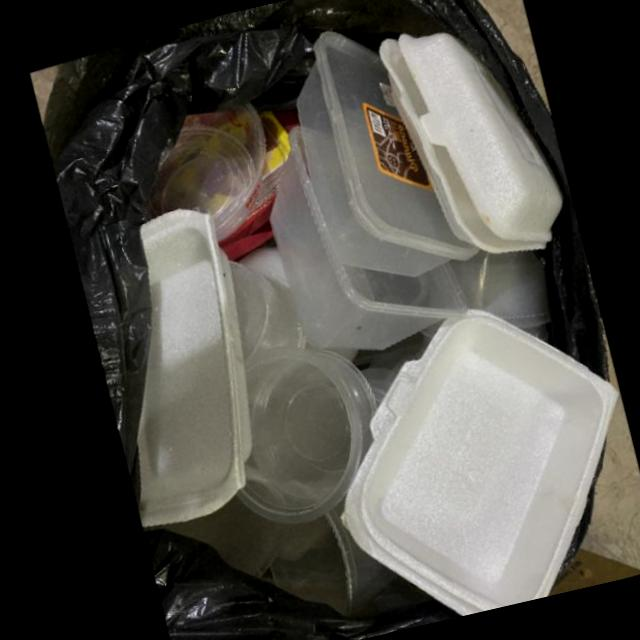hop_nhua: (285, 29, 471, 274), (260, 126, 461, 349), (231, 346, 366, 522)
xop: (337, 306, 614, 615), (367, 30, 554, 251), (130, 209, 247, 527)
